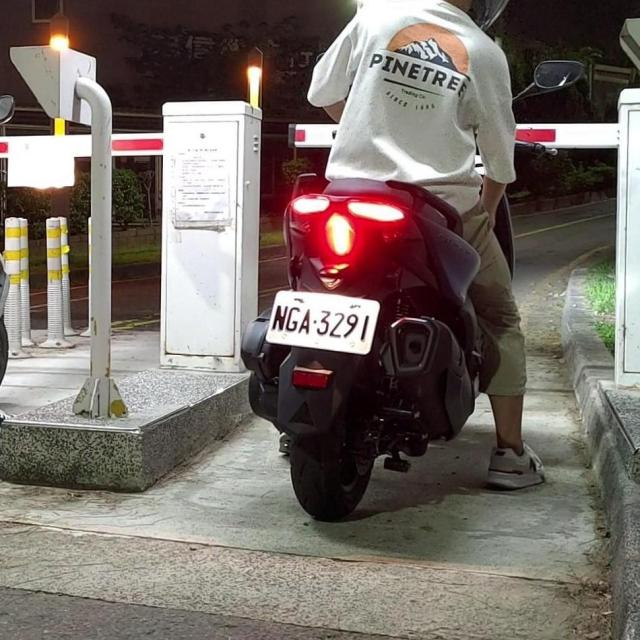W: (265, 285, 382, 356)
